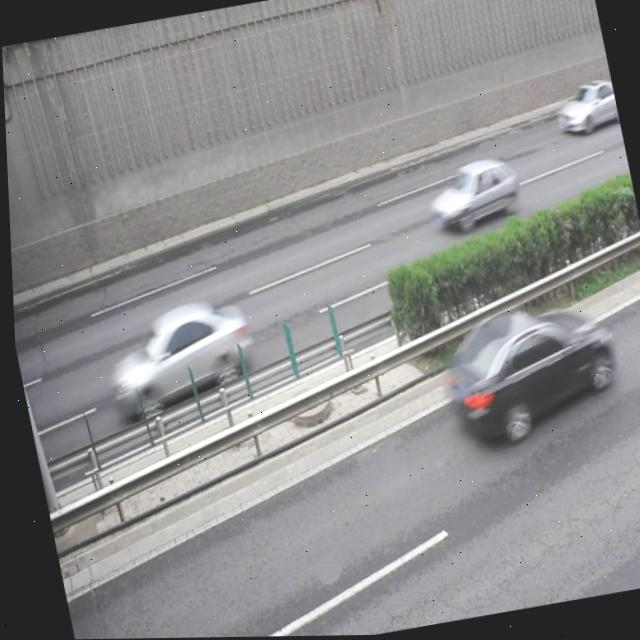car: (430, 292, 621, 447), (95, 293, 257, 422), (420, 154, 522, 235), (548, 75, 620, 140)
